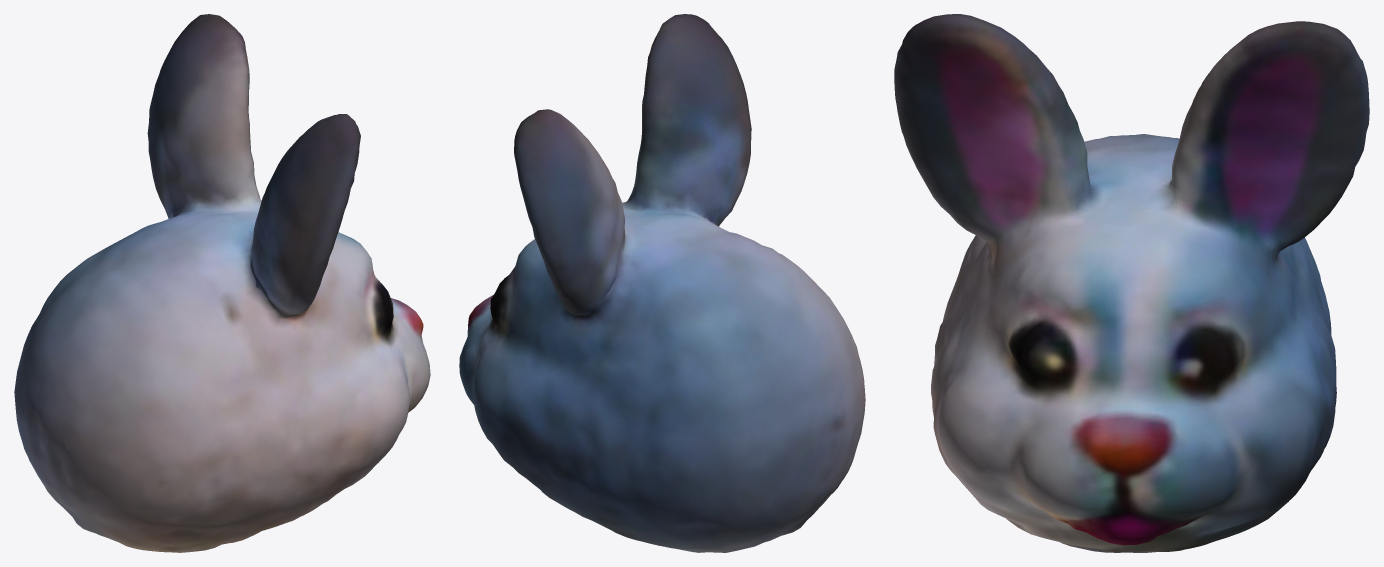
The model's file is 035_Create_rabbit_with_Oval_face_with_soft_features_a_gent_0614161405_preview.obj.
The picture shows the model from 3 angles, left to right: view 1: azimuth 30°, elevation 25°; view 2: azimuth 150°, elevation 25°; view 3: azimuth 270°, elevation 25°; orthographic projection. The views are drawn at different scales.
Parts seen in each view (by area): view 1: Mesh1; view 2: Mesh1; view 3: Mesh1.
Boxes of the visible parts, x1,y1,x2,y2 form: Mesh1: (14, 14, 430, 552); Mesh1: (459, 14, 865, 552); Mesh1: (894, 14, 1369, 552).
Size of the model in its own units: 1.05 by 1.2 by 0.9118.
1 material, 1 textured.
